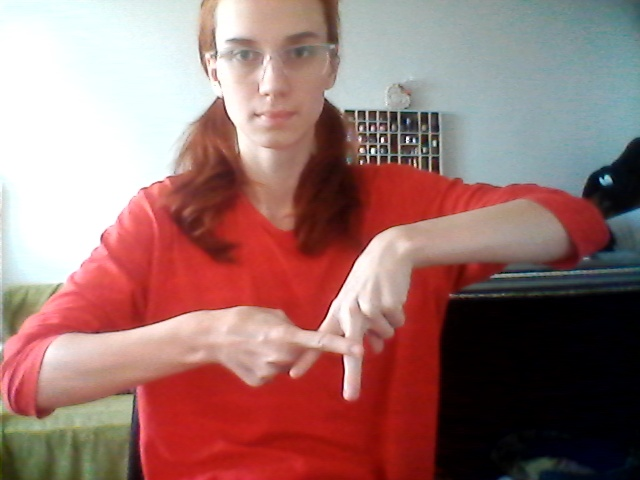a: (234, 277, 411, 404)
